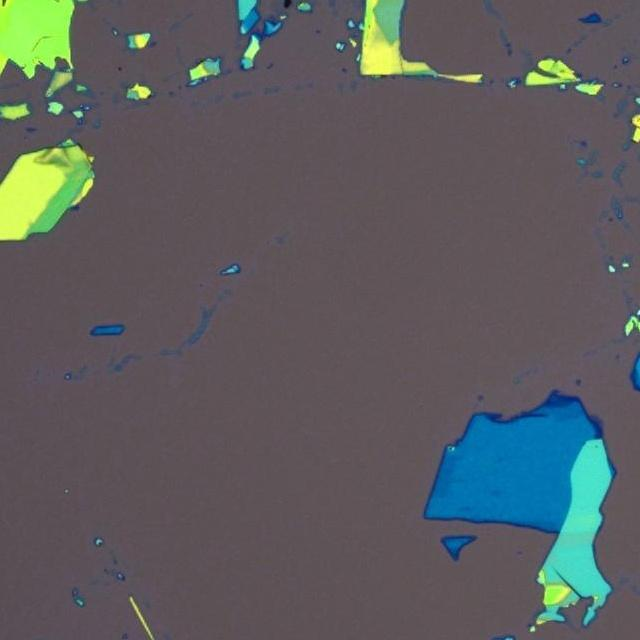monolayer-eWW4: (589, 412, 603, 428)
